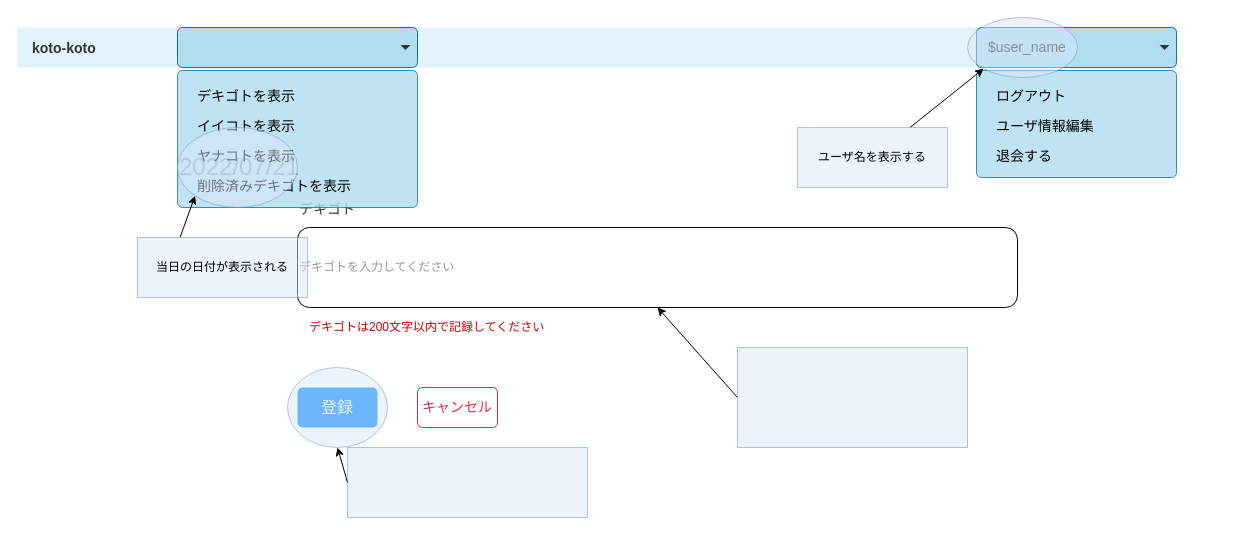
Some shapes in this 1233 by 535 pixel diagram are drawn without their labels. The shapes that lost their labels are listed below. From the top down, each one's centre as x and y in pixels, then its label:
At pixel 297 47: "デキゴトを記録する".
At pixel 852 397: "textareaにデキゴトを記入する".
At pixel 467 482: "DBに保存したらtextareaをクリアする ページは遷移せずこのページのまま".
